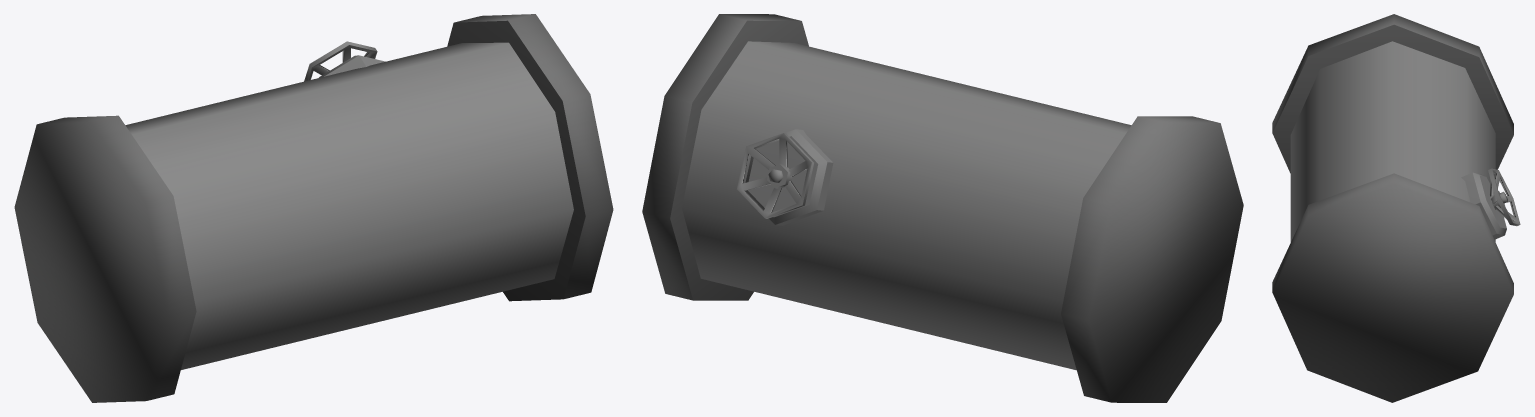
Rendered from Pipe_ConnectorVent.glb.
3 views of the same model, side by side, from view 1: azimuth 30°, elevation 25°; view 2: azimuth 150°, elevation 25°; view 3: azimuth 270°, elevation 25° (orthographic). The views are drawn at different scales.
Parts seen in each view (by area): view 1: Pipe_ConnectorVent; view 2: Pipe_ConnectorVent; view 3: Pipe_ConnectorVent.
Boxes of the visible parts, x1,y1,x2,y2 form: Pipe_ConnectorVent: (14, 14, 613, 402); Pipe_ConnectorVent: (642, 14, 1243, 402); Pipe_ConnectorVent: (1272, 14, 1520, 402).
Size of the model in its own units: 0.5 by 0.3004 by 0.3085.
Materials: 1 (1 with a texture image).
